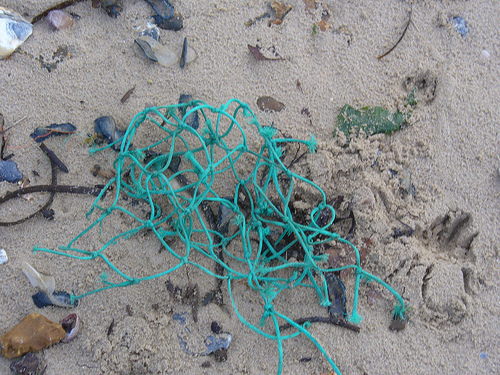litter: (32, 99, 390, 375)
